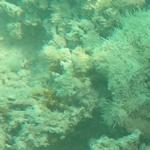dead: (6, 5, 144, 147)
